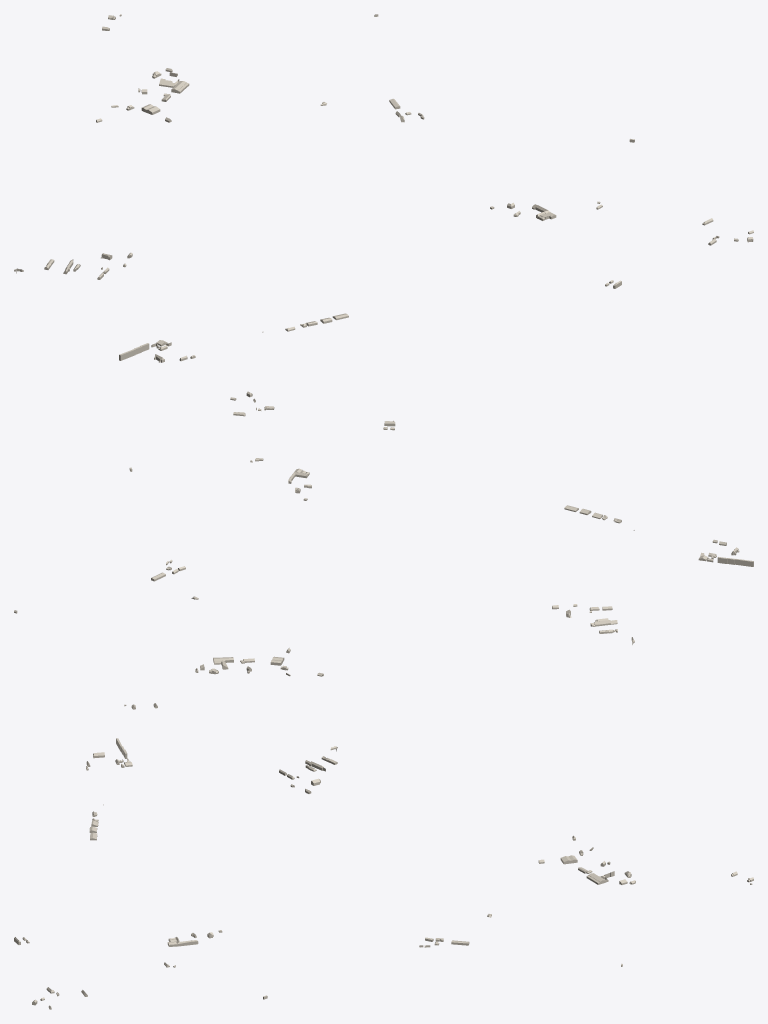
3 views of the same model, one above another, from view 1: azimuth 30°, elevation 25°; view 2: azimuth 150°, elevation 25°; view 3: azimuth 270°, elevation 25° (orthographic). The views are drawn at different scales.
Size of the model in its own units: 1475 by 56.41 by 1684.
